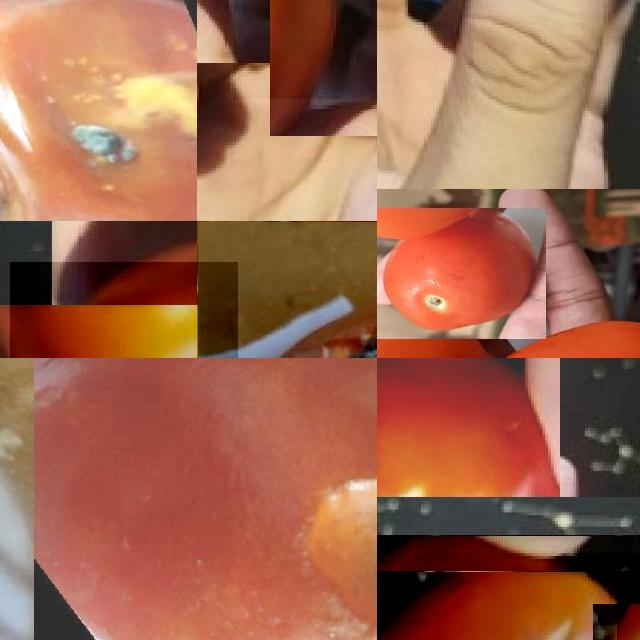0: (377, 358, 560, 497)
1: (377, 552, 640, 640)
Fresh Tomato: (9, 262, 238, 358), (233, 0, 377, 99)
Rotten Tomato: (34, 358, 377, 640), (0, 0, 197, 221), (197, 221, 377, 358)
